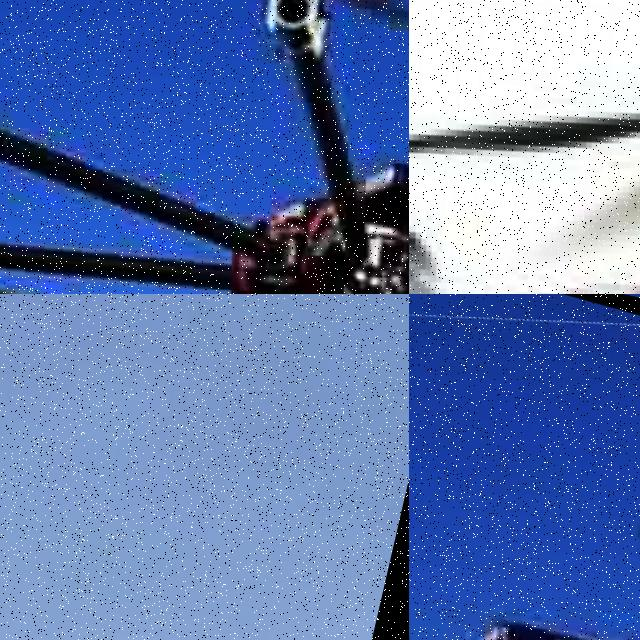drone: (0, 0, 409, 294), (409, 294, 640, 640), (409, 0, 640, 294)
